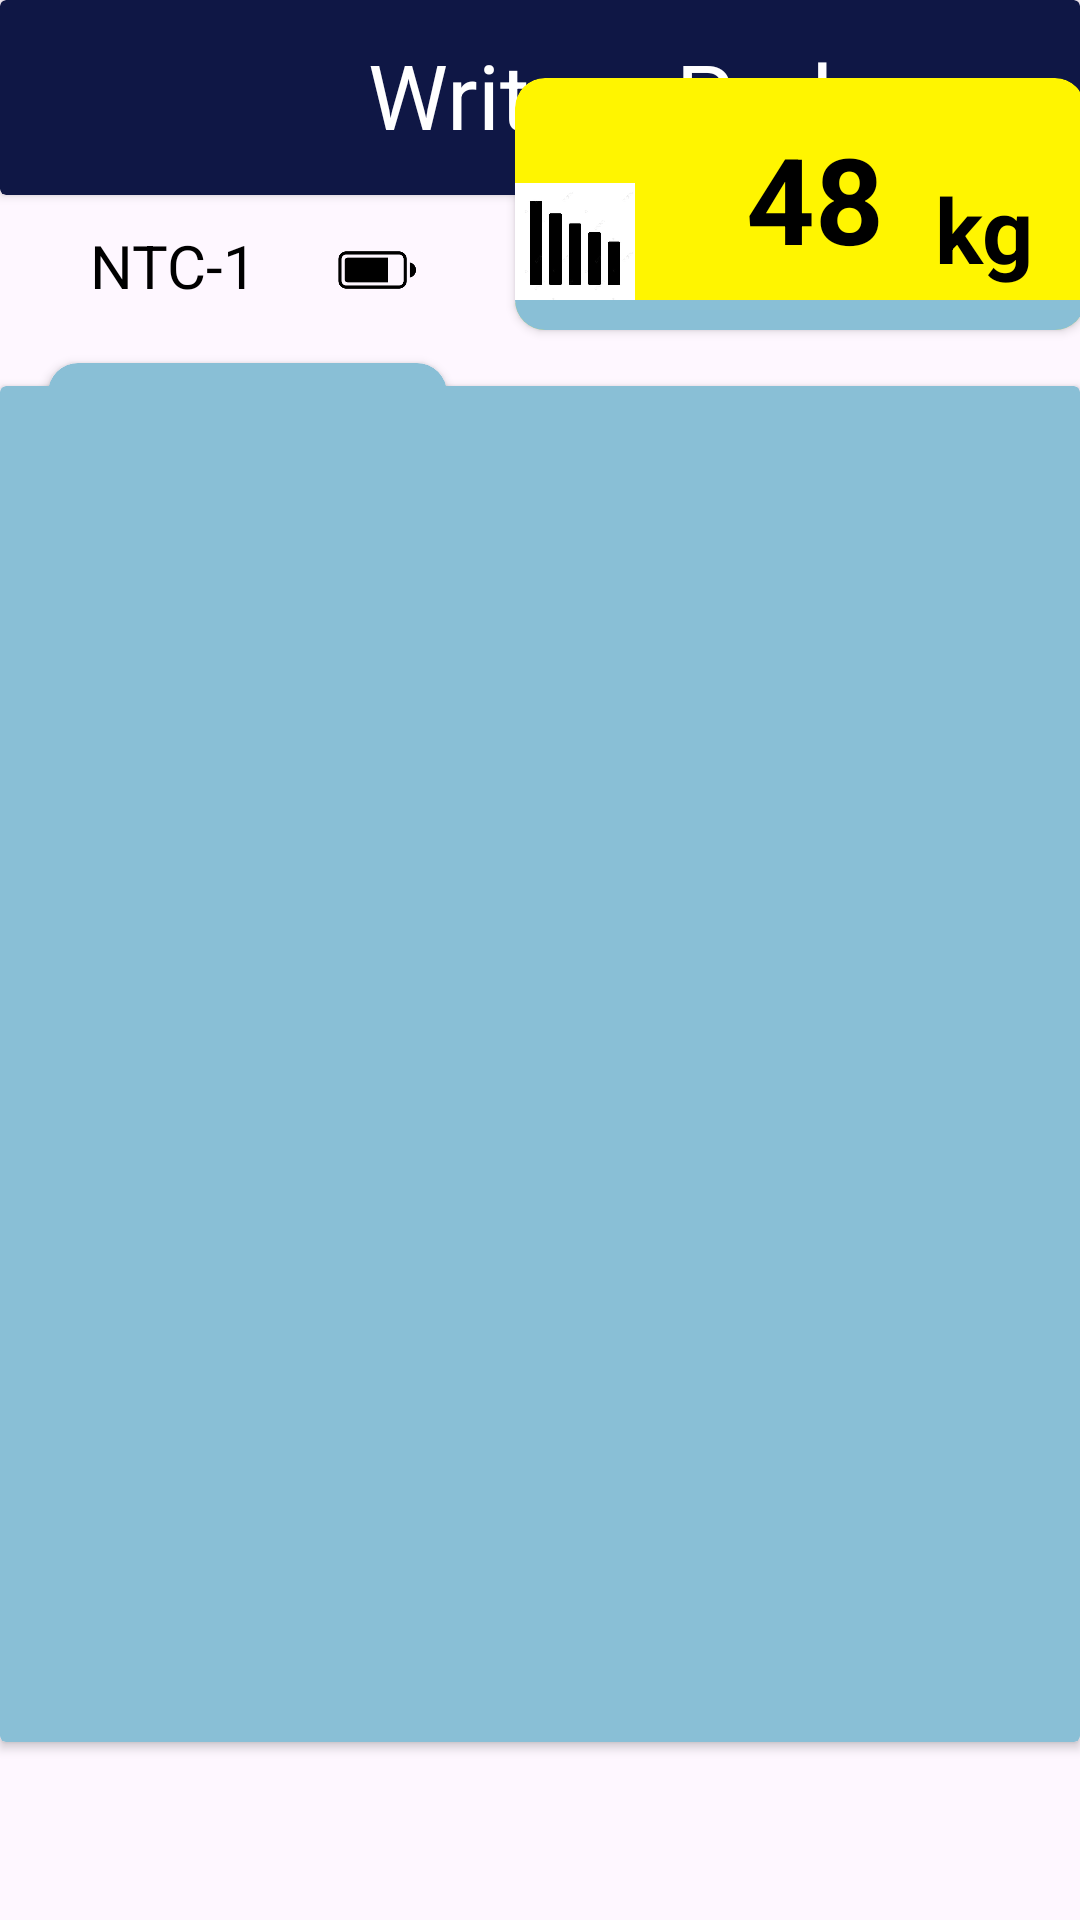

Where to tap for icons on this 1080 x 1920 app screen, as (x,y):
battery: (377,270)
